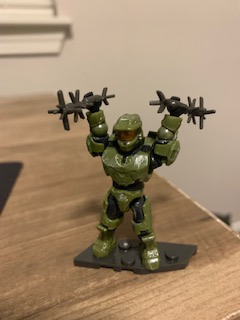chief: (83, 88, 183, 272)
spartan: (81, 86, 181, 270)
up: (80, 90, 183, 188)
